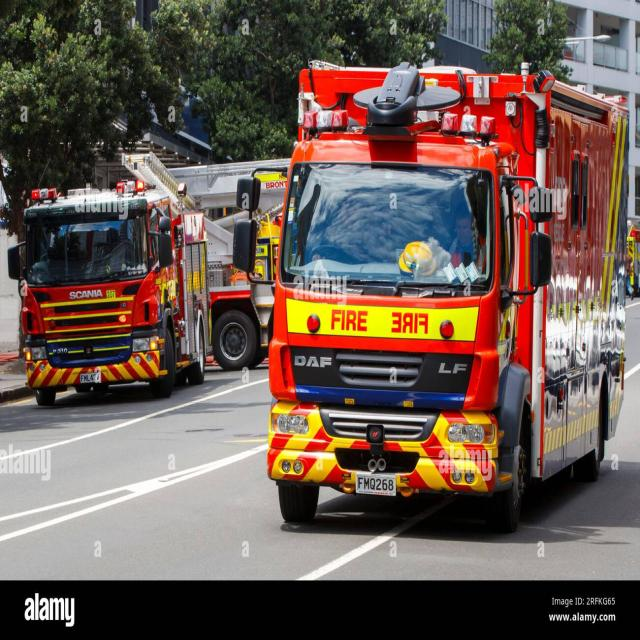fire brigade: (289, 66, 614, 510)
